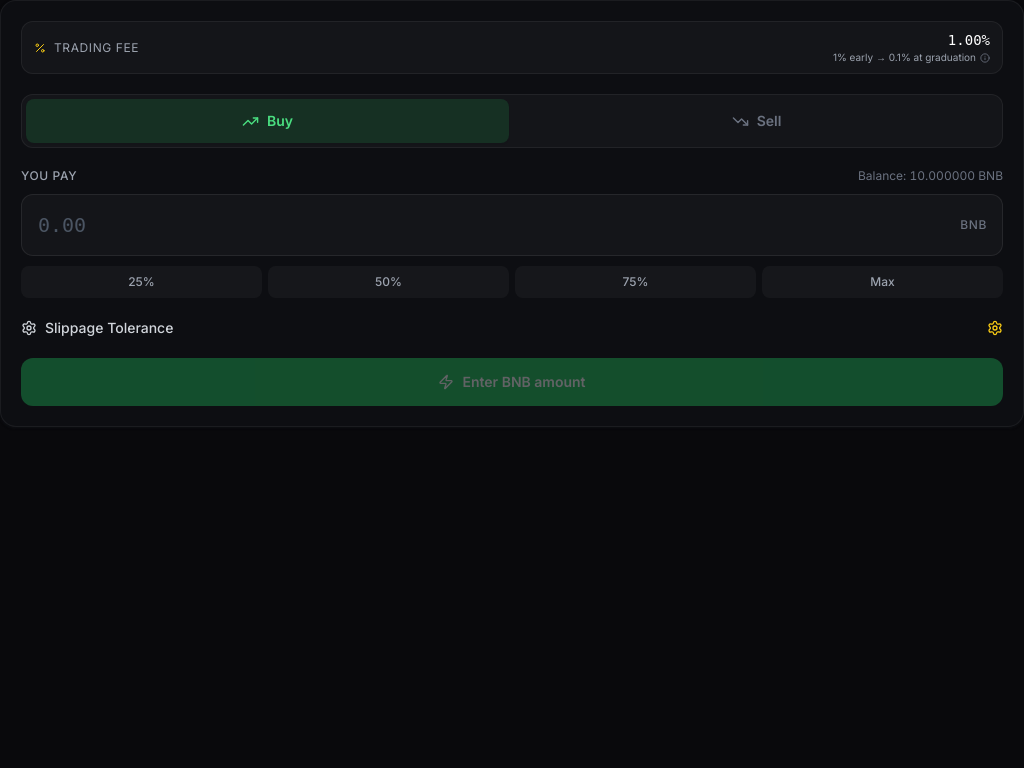
Test: TradingInterface › Trade Calculations › derives minimum received from expected output and slippage, not the quote floor
In the number field with placeholder "0.00": (512,225) [21,194,1003,256], type "1"
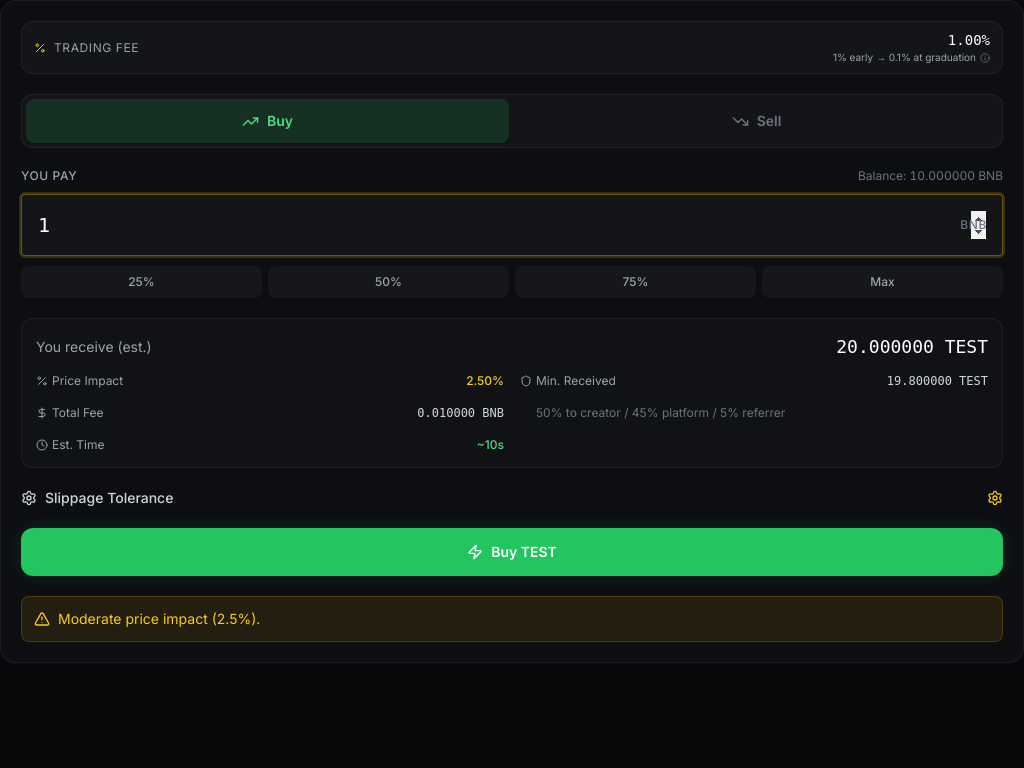
Expected: the text "19.800000 TEST" is shown, [887,373,988,389]
